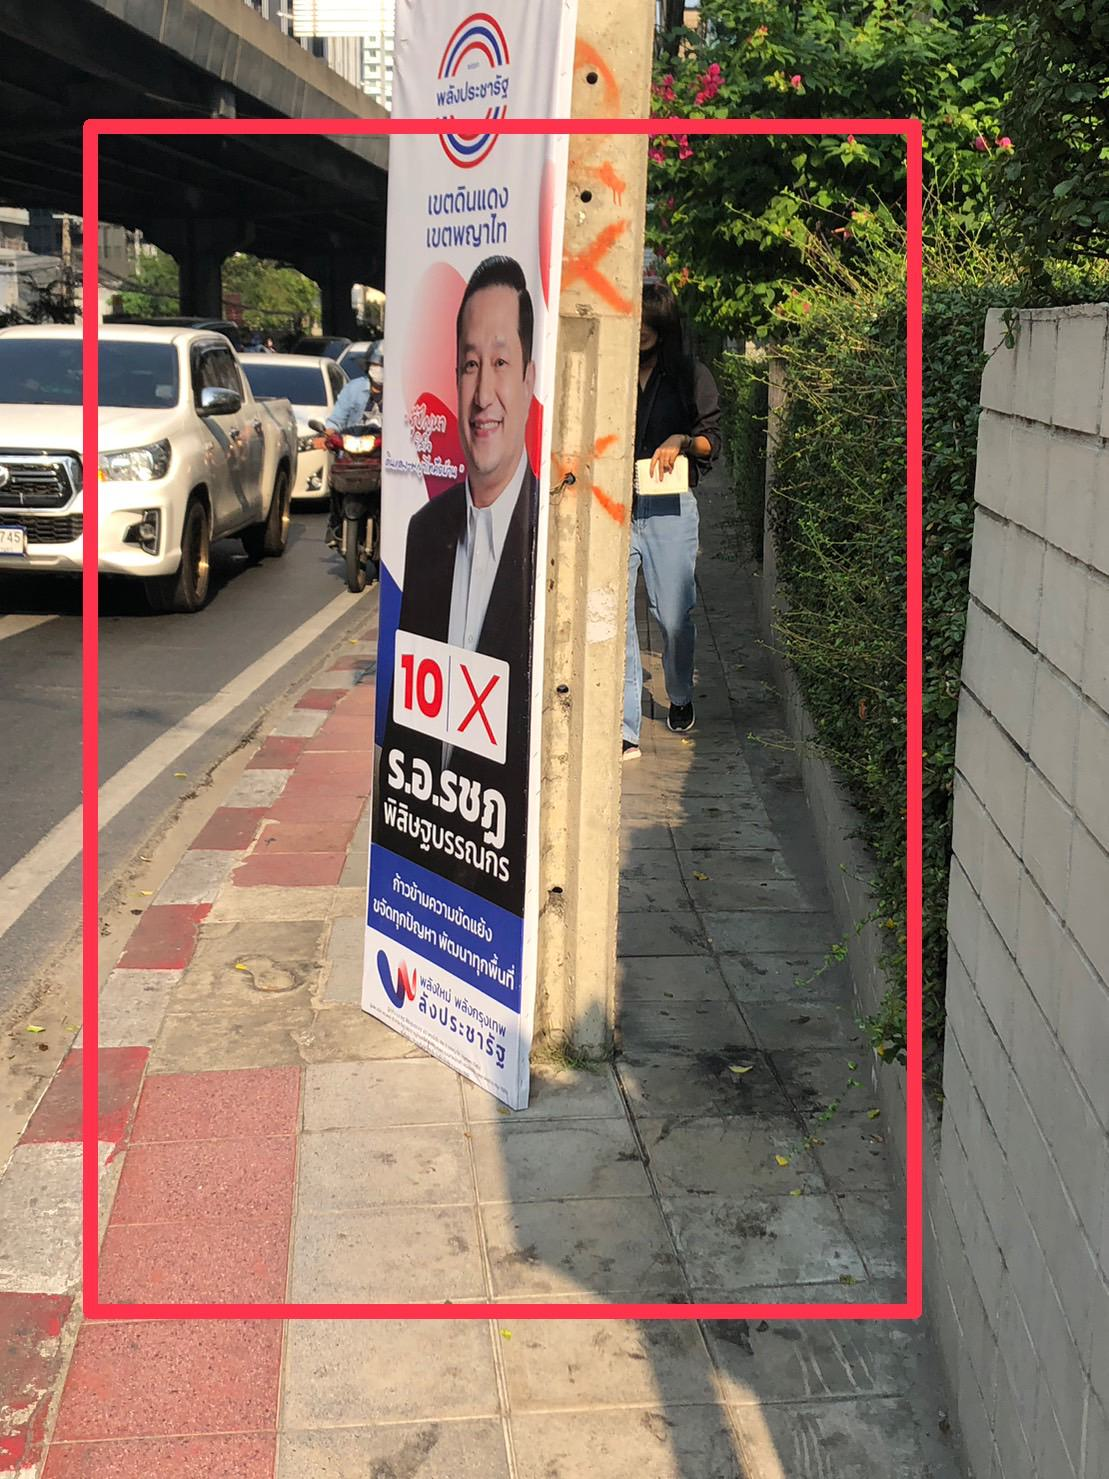Banner: (356, 3, 572, 1121)
